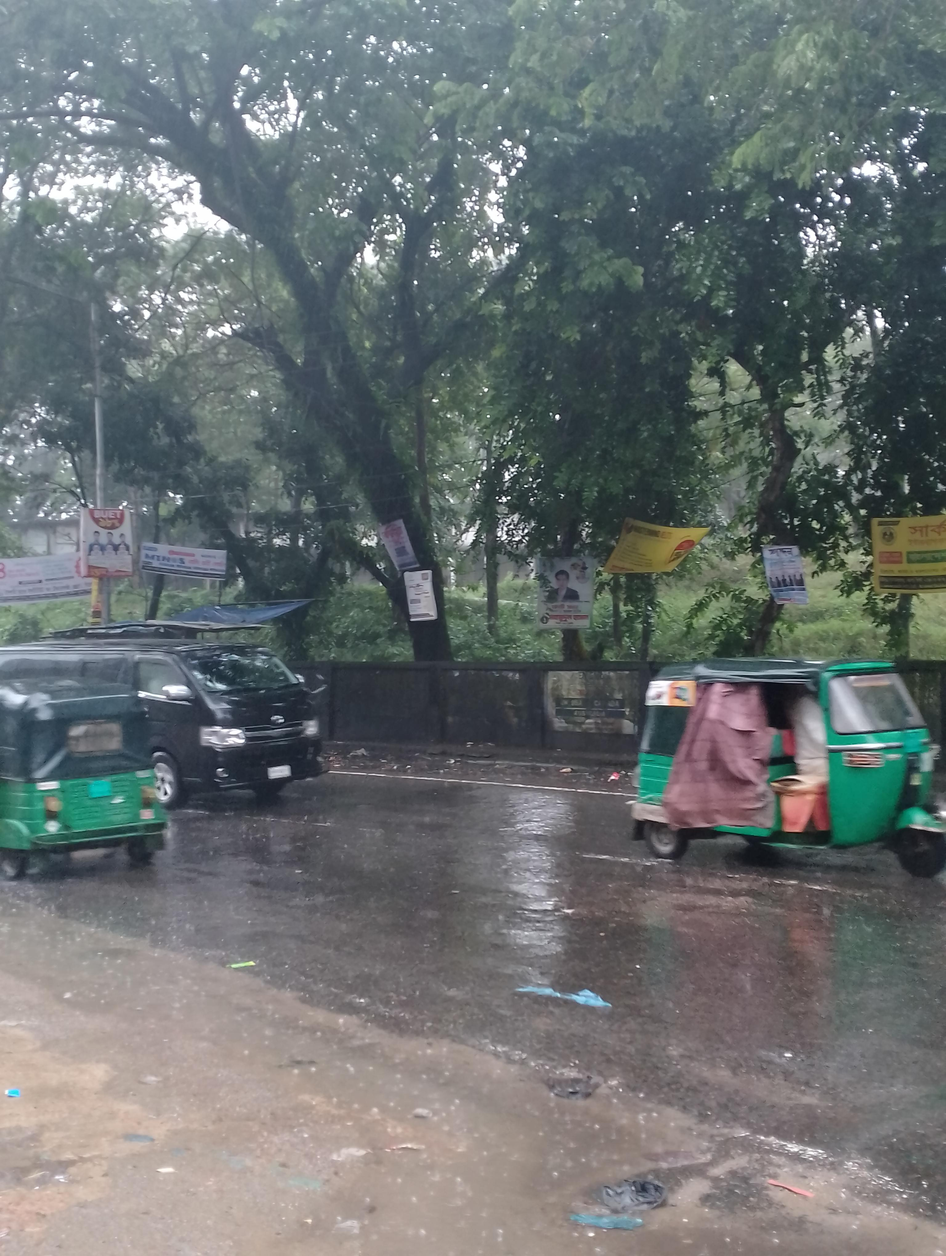Car: (131, 616, 338, 826)
